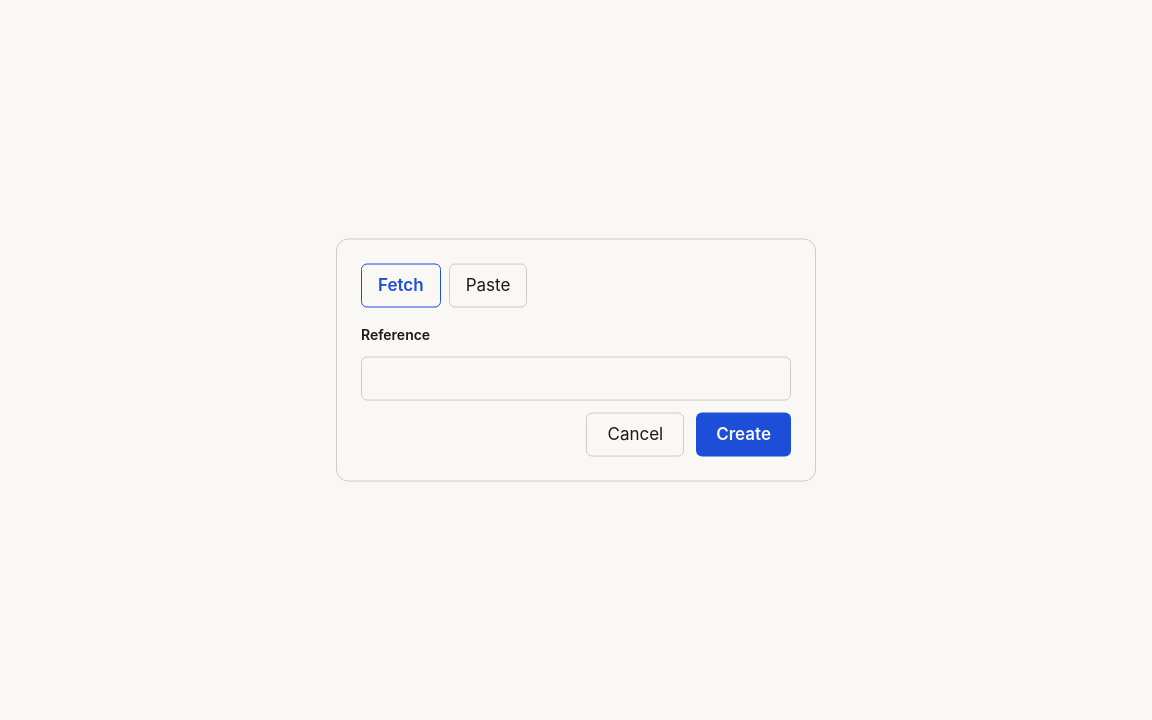
Test: a 503 switches to Paste and says why
Type "Romans 12:1-2" into the field labelled "Reference" at (576, 378), box x1=361 y1=356 x2=791 y2=400
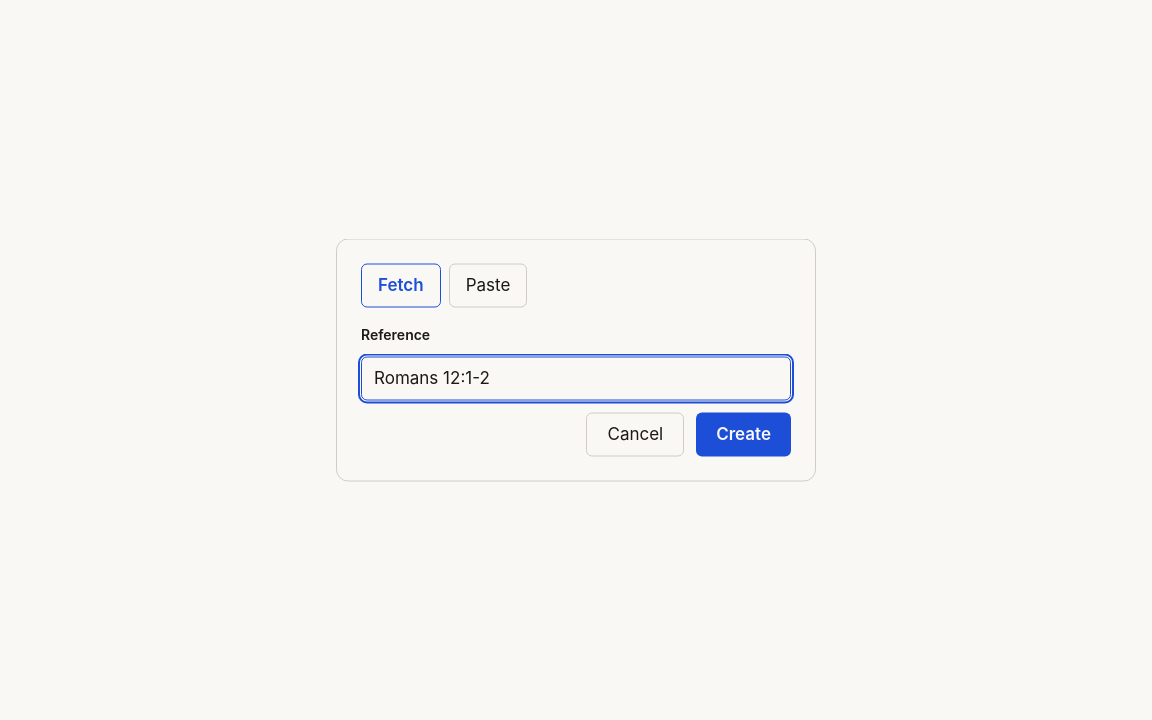
Click the button "Create" at (744, 434), box x1=696 y1=412 x2=791 y2=456
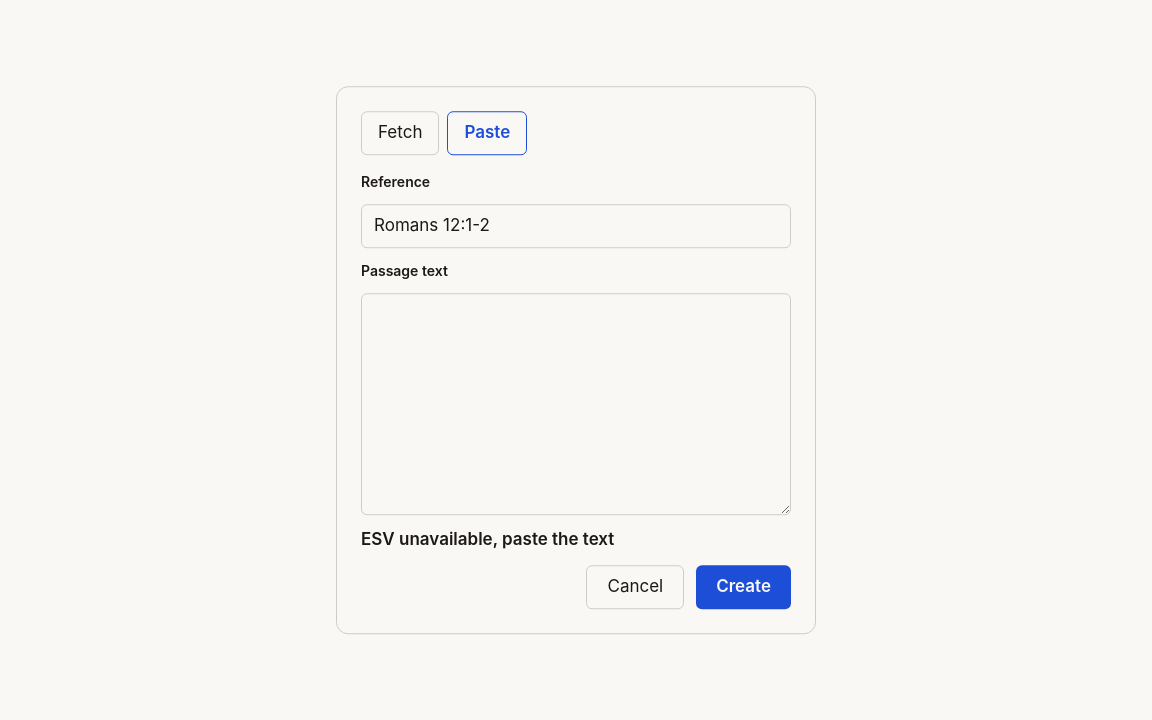
Now the message reads "ESV unavailable, paste the text", box x1=361 y1=529 x2=614 y2=549
Now the text box labelled "Passage text" is shown, box x1=361 y1=293 x2=791 y2=515
